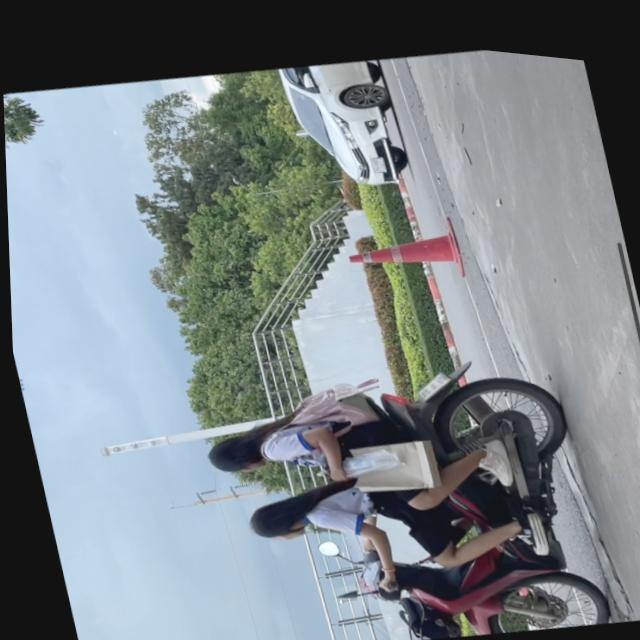seatbelt: (198, 420, 267, 477), (239, 487, 308, 544)
